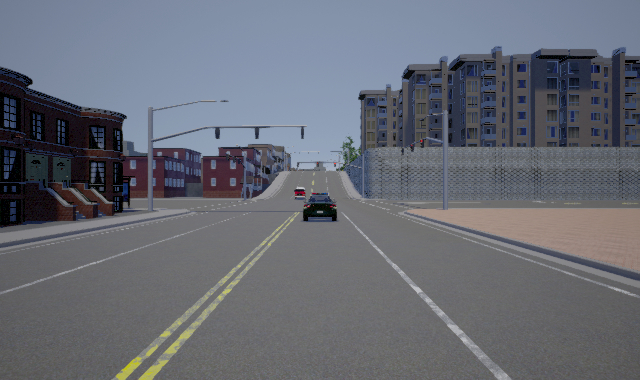vehicle: (301, 190, 338, 221), (294, 186, 307, 200)
